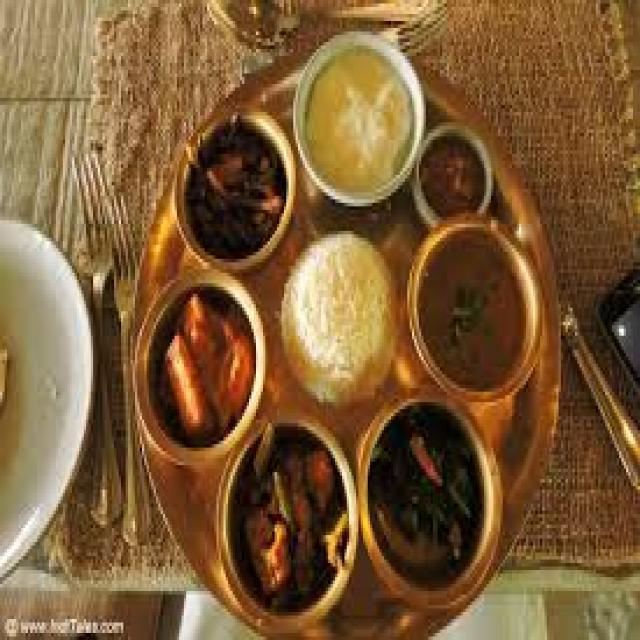pickle: (181, 120, 293, 262)
rice: (274, 225, 416, 414)
sweet: (144, 283, 272, 457)
